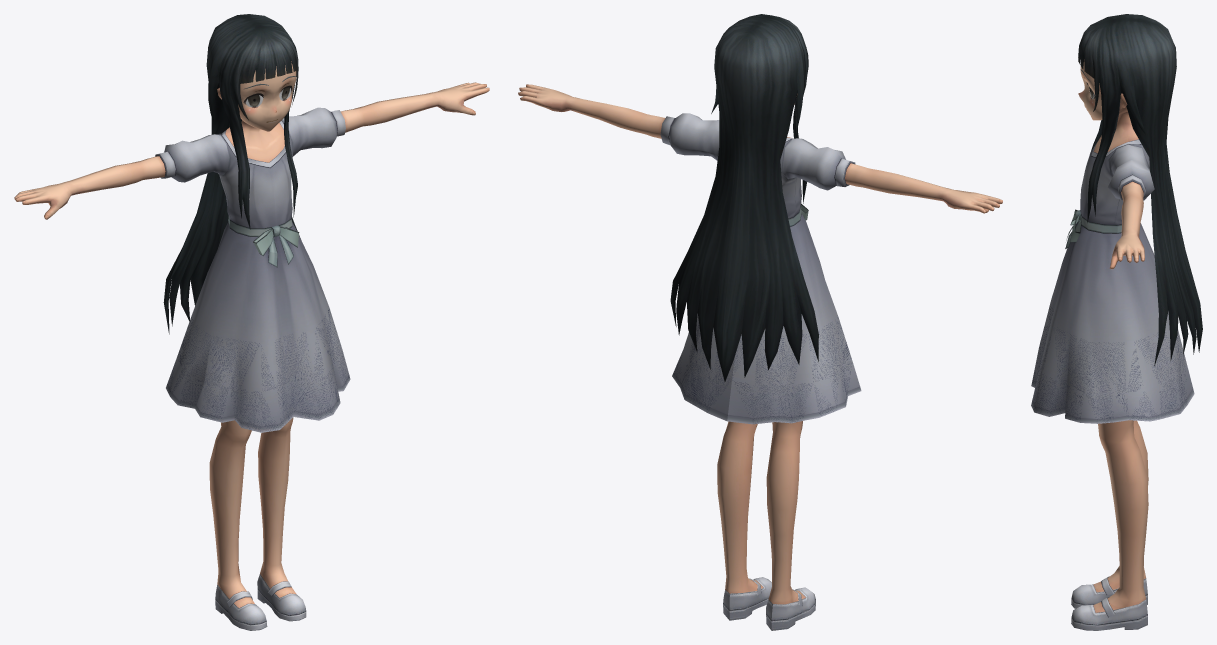
File: Sophia.fbx
3 views of the same model, side by side, from view 1: azimuth 30°, elevation 25°; view 2: azimuth 150°, elevation 25°; view 3: azimuth 270°, elevation 25° (orthographic). The views are drawn at different scales.
Visible parts, largest first — view 1: 0000_3c, Mika; view 2: Mika, 0000_3c; view 3: Mika, 0000_3c.
Part boxes in pixels (x1,y1,x2,y2): 0000_3c: (155, 107, 350, 630); Mika: (14, 14, 489, 607); Mika: (518, 14, 1002, 604); 0000_3c: (660, 113, 861, 630); Mika: (1031, 14, 1202, 612); 0000_3c: (1031, 137, 1194, 630).
Size of the model in its own units: 5.15 by 6.11 by 1.6.
4 materials, 4 textured.
